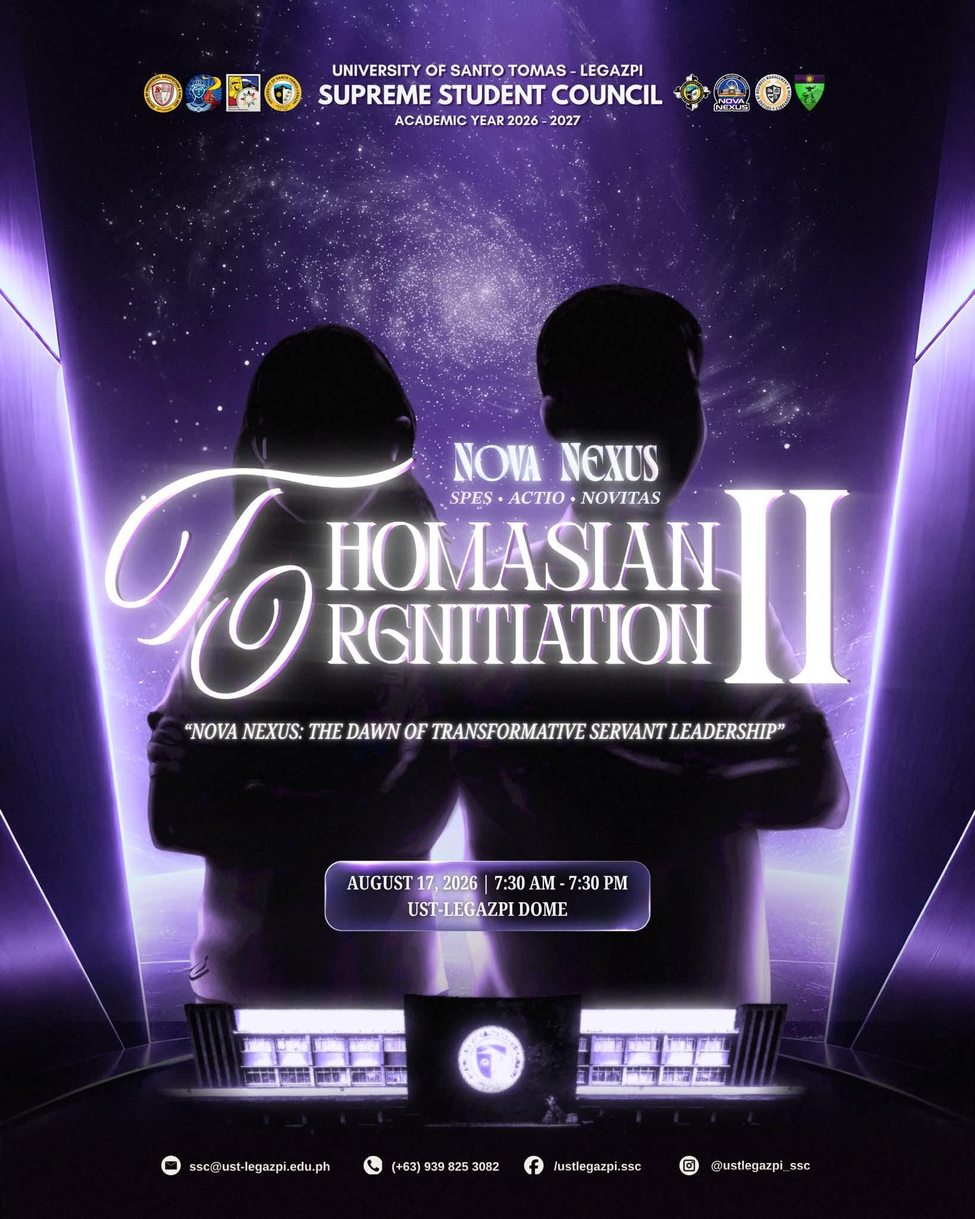embellishment: (361, 1152, 385, 1177), (160, 1153, 183, 1179), (676, 1154, 701, 1177), (521, 1154, 545, 1177)
logo: (141, 71, 184, 116), (223, 69, 263, 115), (183, 70, 224, 114), (752, 70, 793, 113), (712, 71, 752, 114), (263, 71, 304, 112), (673, 71, 711, 113), (793, 69, 829, 112)
text: (95, 431, 870, 704), (312, 59, 667, 130), (179, 712, 794, 749), (342, 871, 635, 920), (187, 1160, 335, 1176), (390, 1159, 502, 1175), (707, 1157, 814, 1173), (550, 1158, 645, 1174)
underlay: (324, 859, 652, 932)
